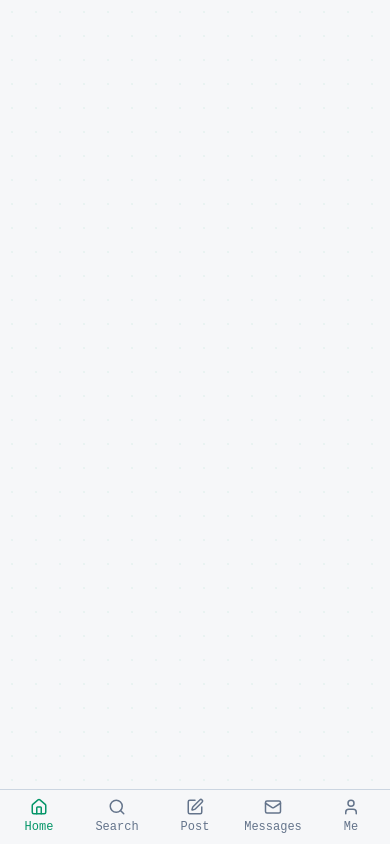
Test: MobileTabBar › carries settings, drafts, profile and logout on the fifth tab
Click the button "Me" at (351, 817), box left=312, top=790, right=389, bottom=843
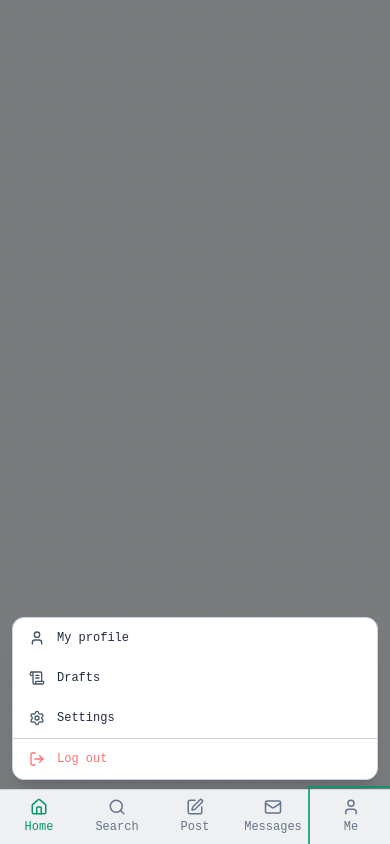
Result: the menu named "Account" is shown at left=12, top=617, right=378, bottom=780
Click the menu item "Log out" at (82, 759), box left=13, top=738, right=377, bottom=779
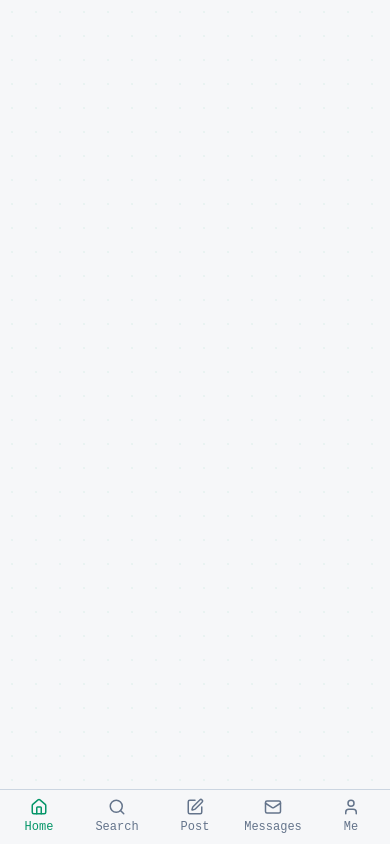
Result: the menu is gone
